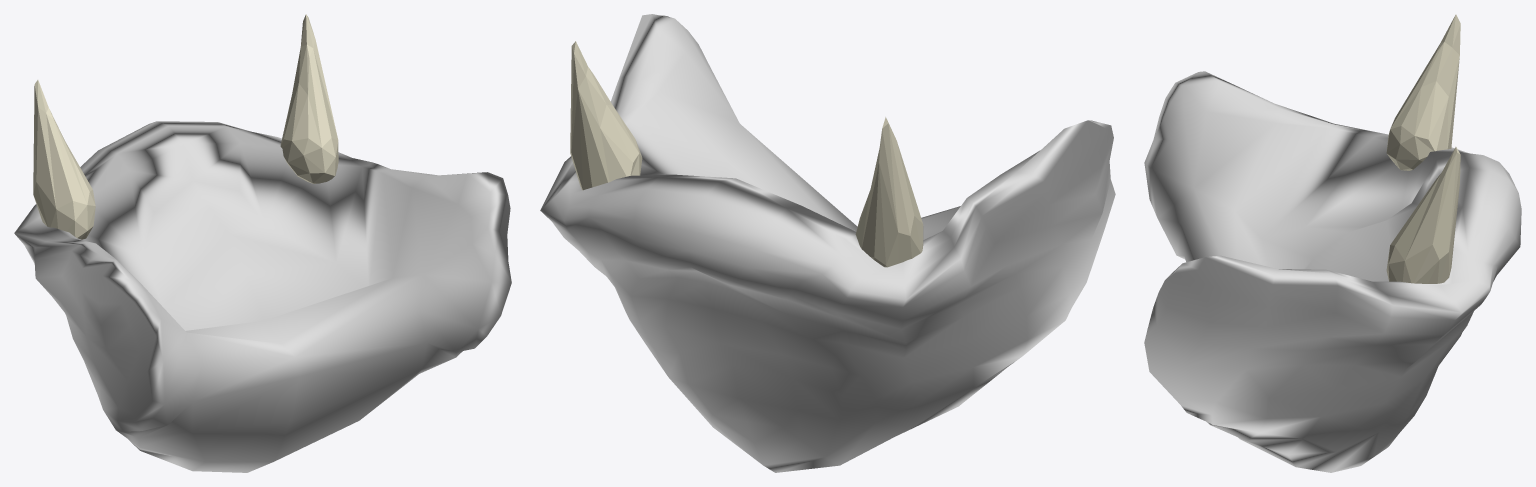
Rendered from OrcJawFat2.fbx.
3 views of the same model, side by side, from view 1: azimuth 30°, elevation 25°; view 2: azimuth 150°, elevation 25°; view 3: azimuth 270°, elevation 25° (orthographic). The views are drawn at different scales.
Parts seen in each view (by area): view 1: Jaw2, teeth2Large; view 2: Jaw2, teeth2Large; view 3: Jaw2, teeth2Large.
Boxes of the visible parts, box(x1,y1,x2,y2) form: Jaw2: box(14, 121, 511, 472); teeth2Large: box(33, 14, 338, 239); Jaw2: box(540, 14, 1115, 472); teeth2Large: box(570, 41, 923, 267); Jaw2: box(1144, 71, 1521, 472); teeth2Large: box(1386, 14, 1460, 283).
Bounding box in the file's own units: 0.1627 × 0.1455 × 0.1304.
